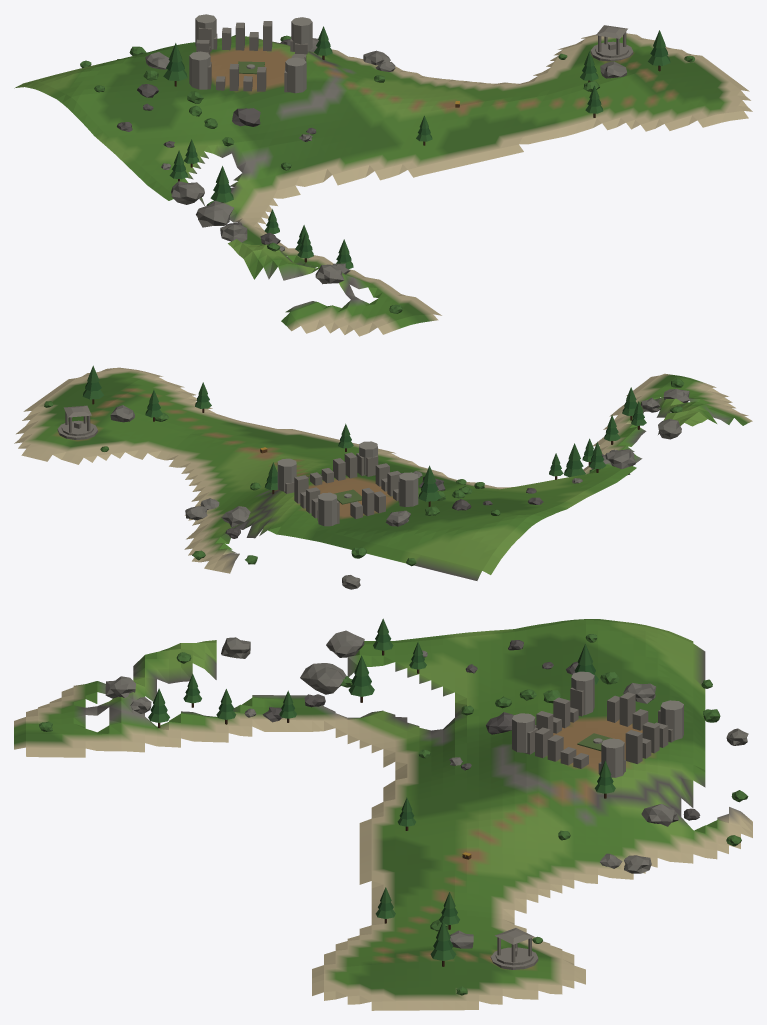
The model's file is arch_isl_saltwatch_keep.glb.
3 renders of one model, top to bottom at view 1: azimuth 30°, elevation 25°; view 2: azimuth 150°, elevation 25°; view 3: azimuth 270°, elevation 25°, orthographic. The views are drawn at different scales.
Visible parts, largest first — view 1: geometry_0; view 2: geometry_0; view 3: geometry_0.
Boxes of the visible parts, x1,y1,x2,y2 form: geometry_0: (14,14,752,336); geometry_0: (14,365,752,589); geometry_0: (14,618,752,1010).
Bounding box in the file's own units: 128 × 19.89 × 124.
